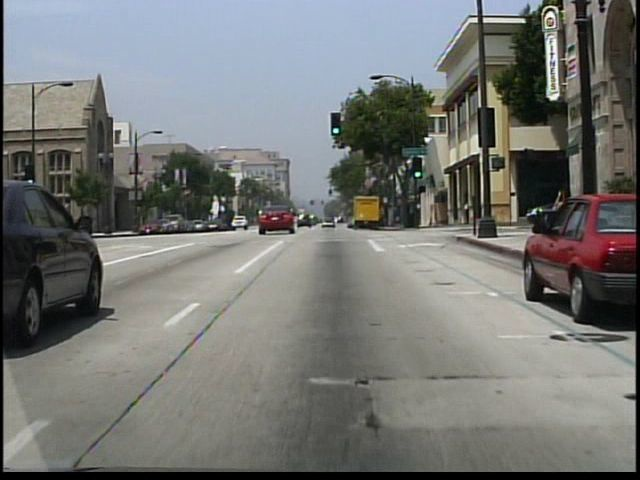person: (465, 199, 471, 228)
